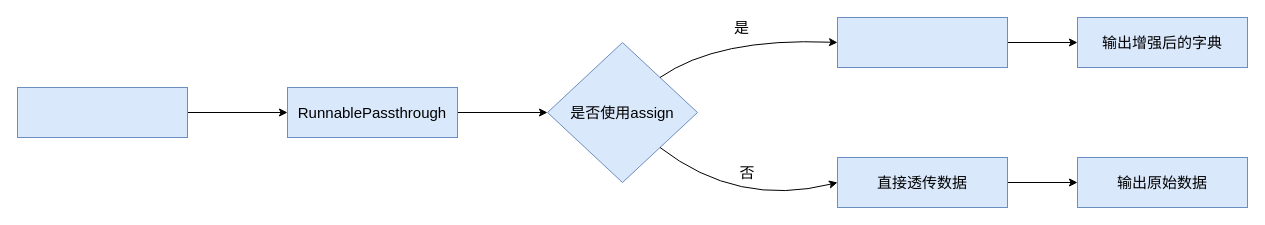
The diagram is 1265 pixels wide and 225 high, and some of its shapes have lost their labels. Each missing label, with the box of its shape:
原始输入: (16, 86, 188, 138)
附加新字段: (836, 16, 1008, 68)
